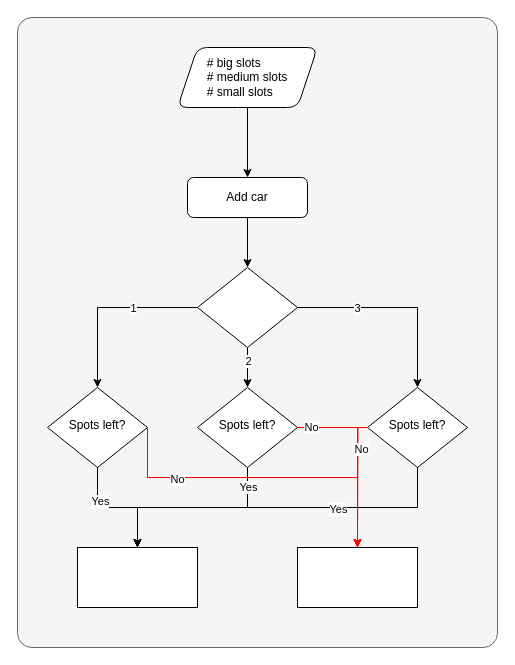
The diagram is 515 pixels wide and 665 high, and some of its shapes have lost their labels. The centre of each missing label's shape, as x and y in pixels:
"Print false" goes at (357,577).
"Print true" goes at (137,577).
"Which car type?" goes at (247,307).
